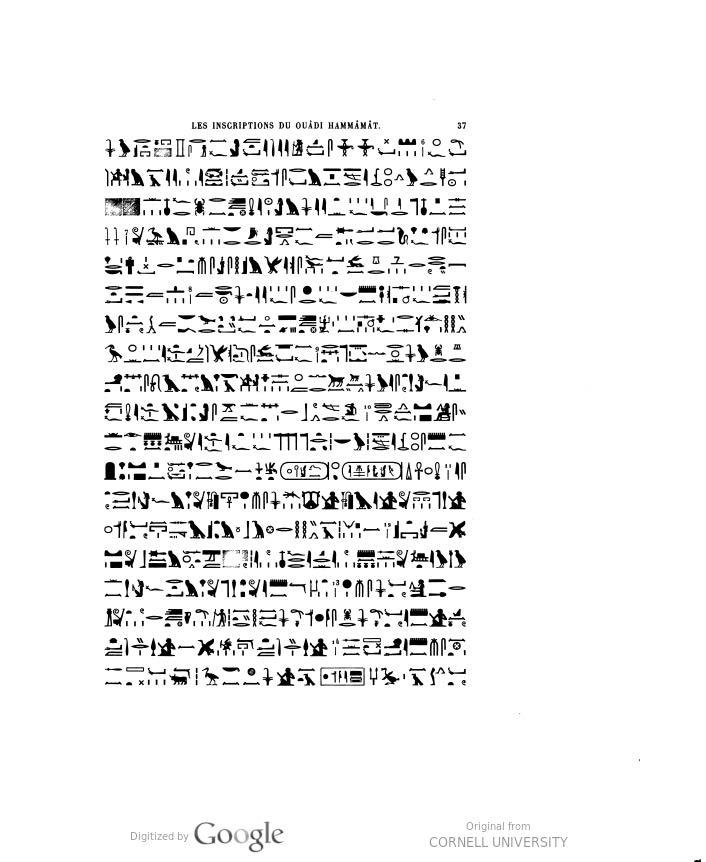circle: (340, 456, 407, 485), (276, 456, 332, 485)
